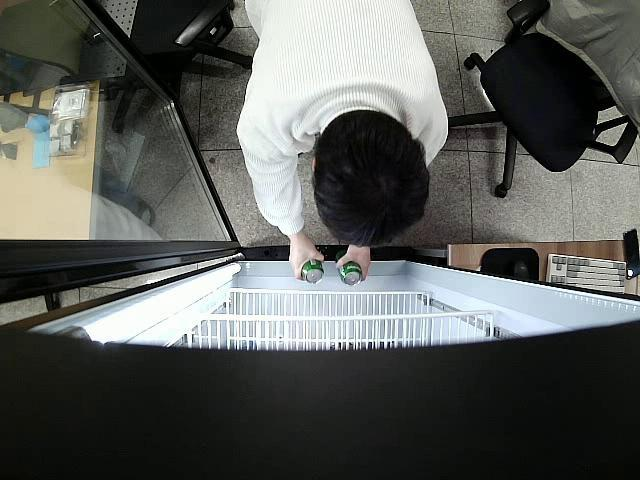12_chilsungCider: (337, 262, 362, 286), (301, 259, 324, 284)
